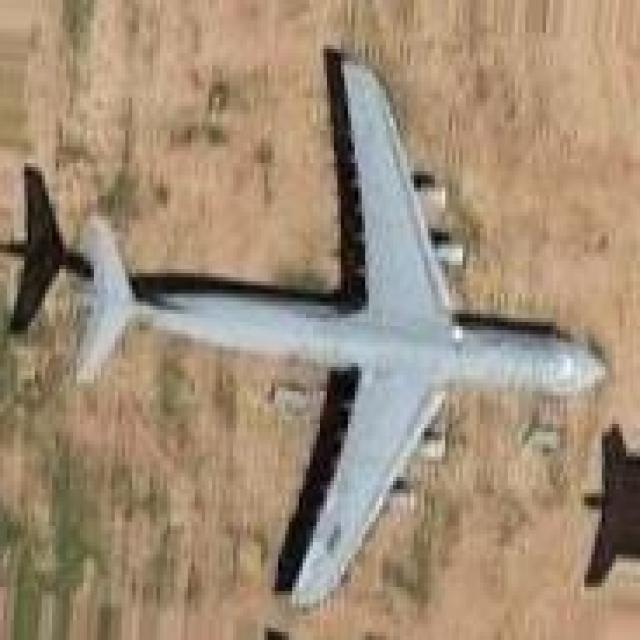C-5_TopDown: (0, 37, 609, 607)
